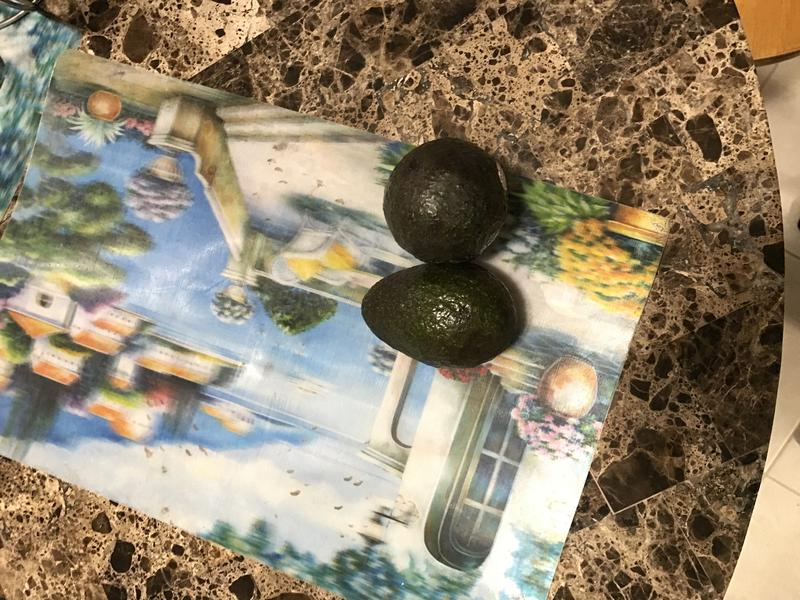avacado: (355, 263, 532, 374), (378, 137, 517, 263)
